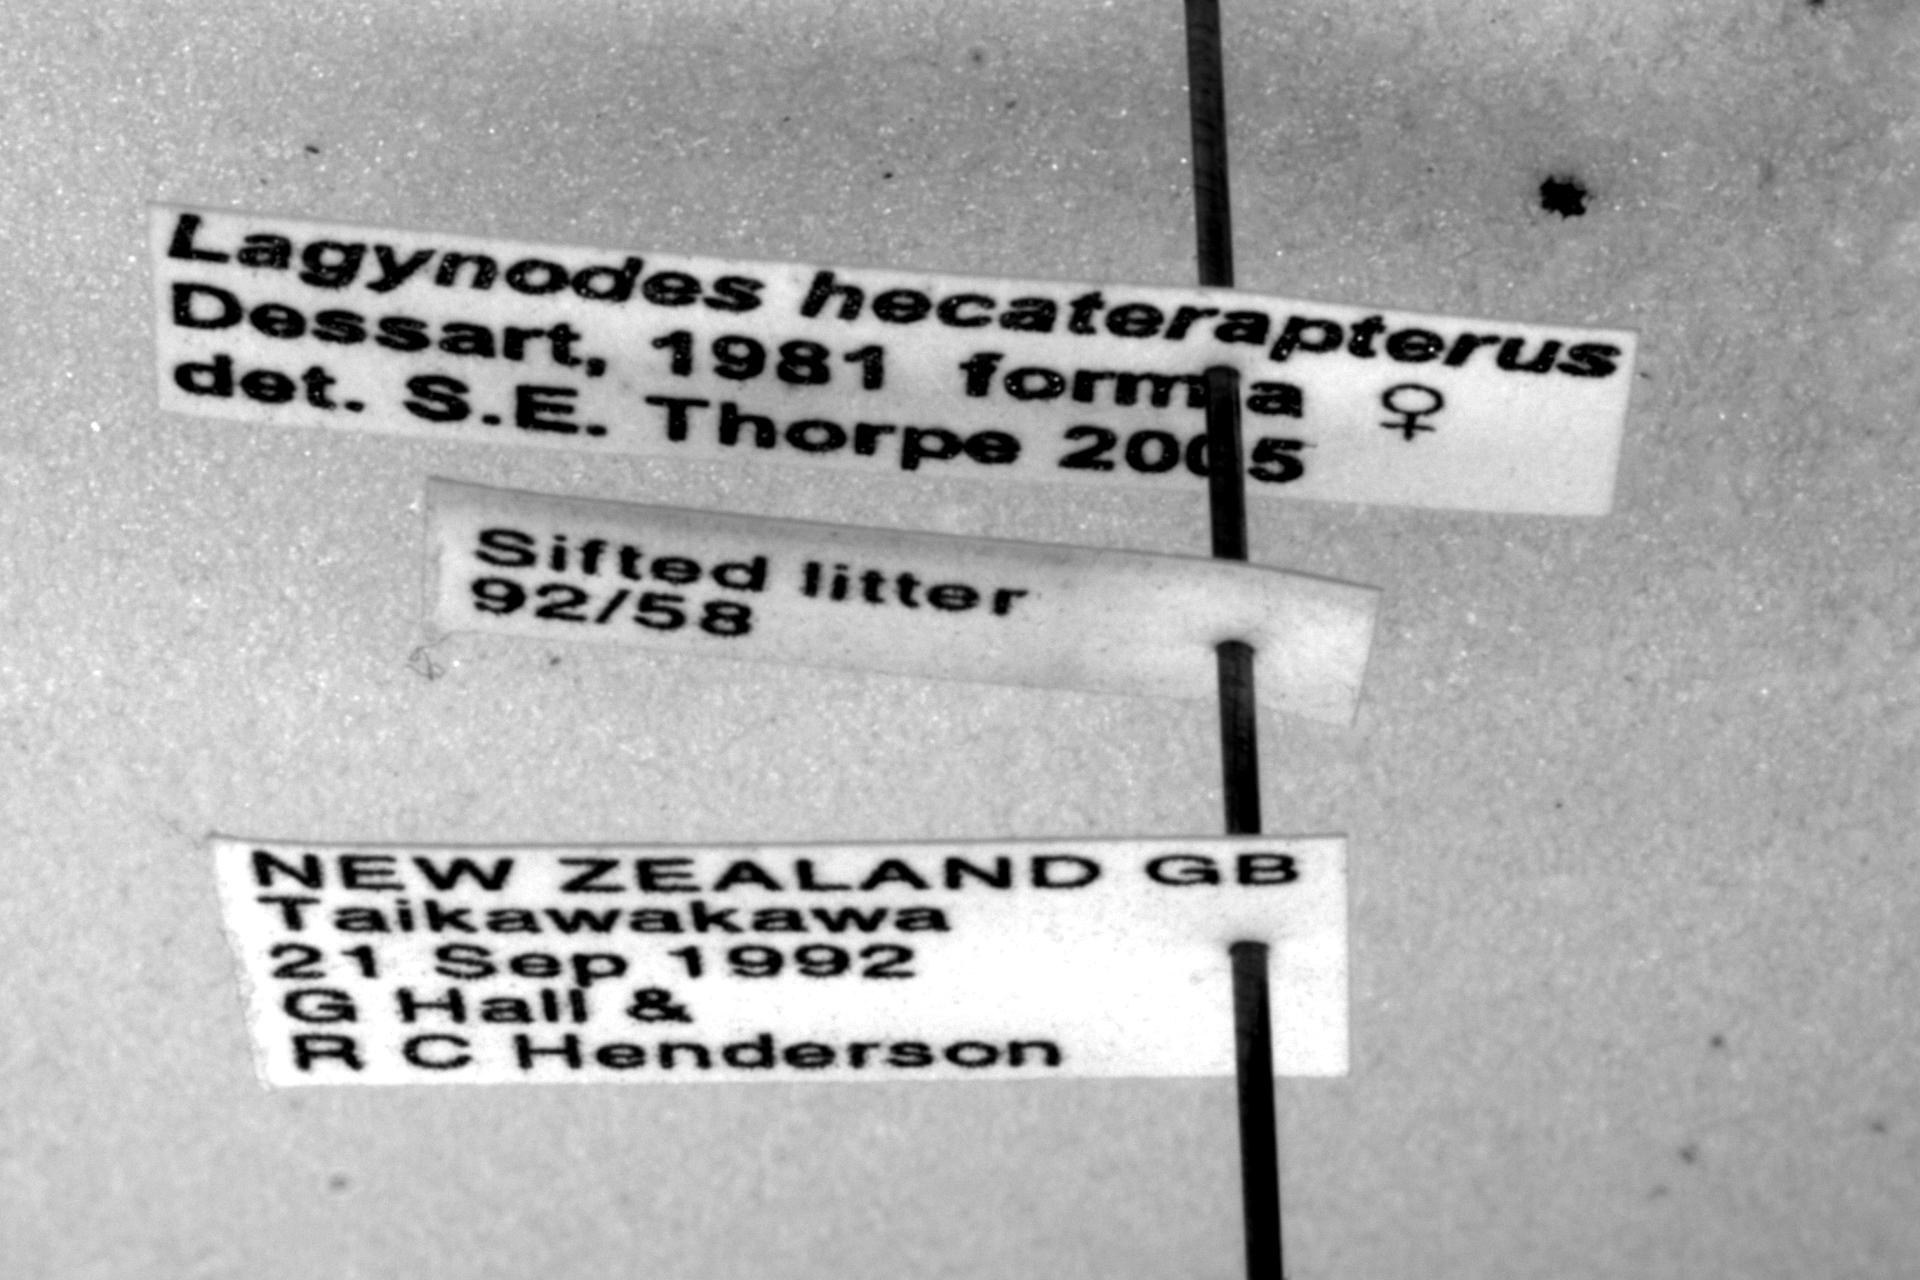typed_label: (150, 206, 1634, 514), (210, 836, 1350, 1087), (424, 480, 1380, 727)
